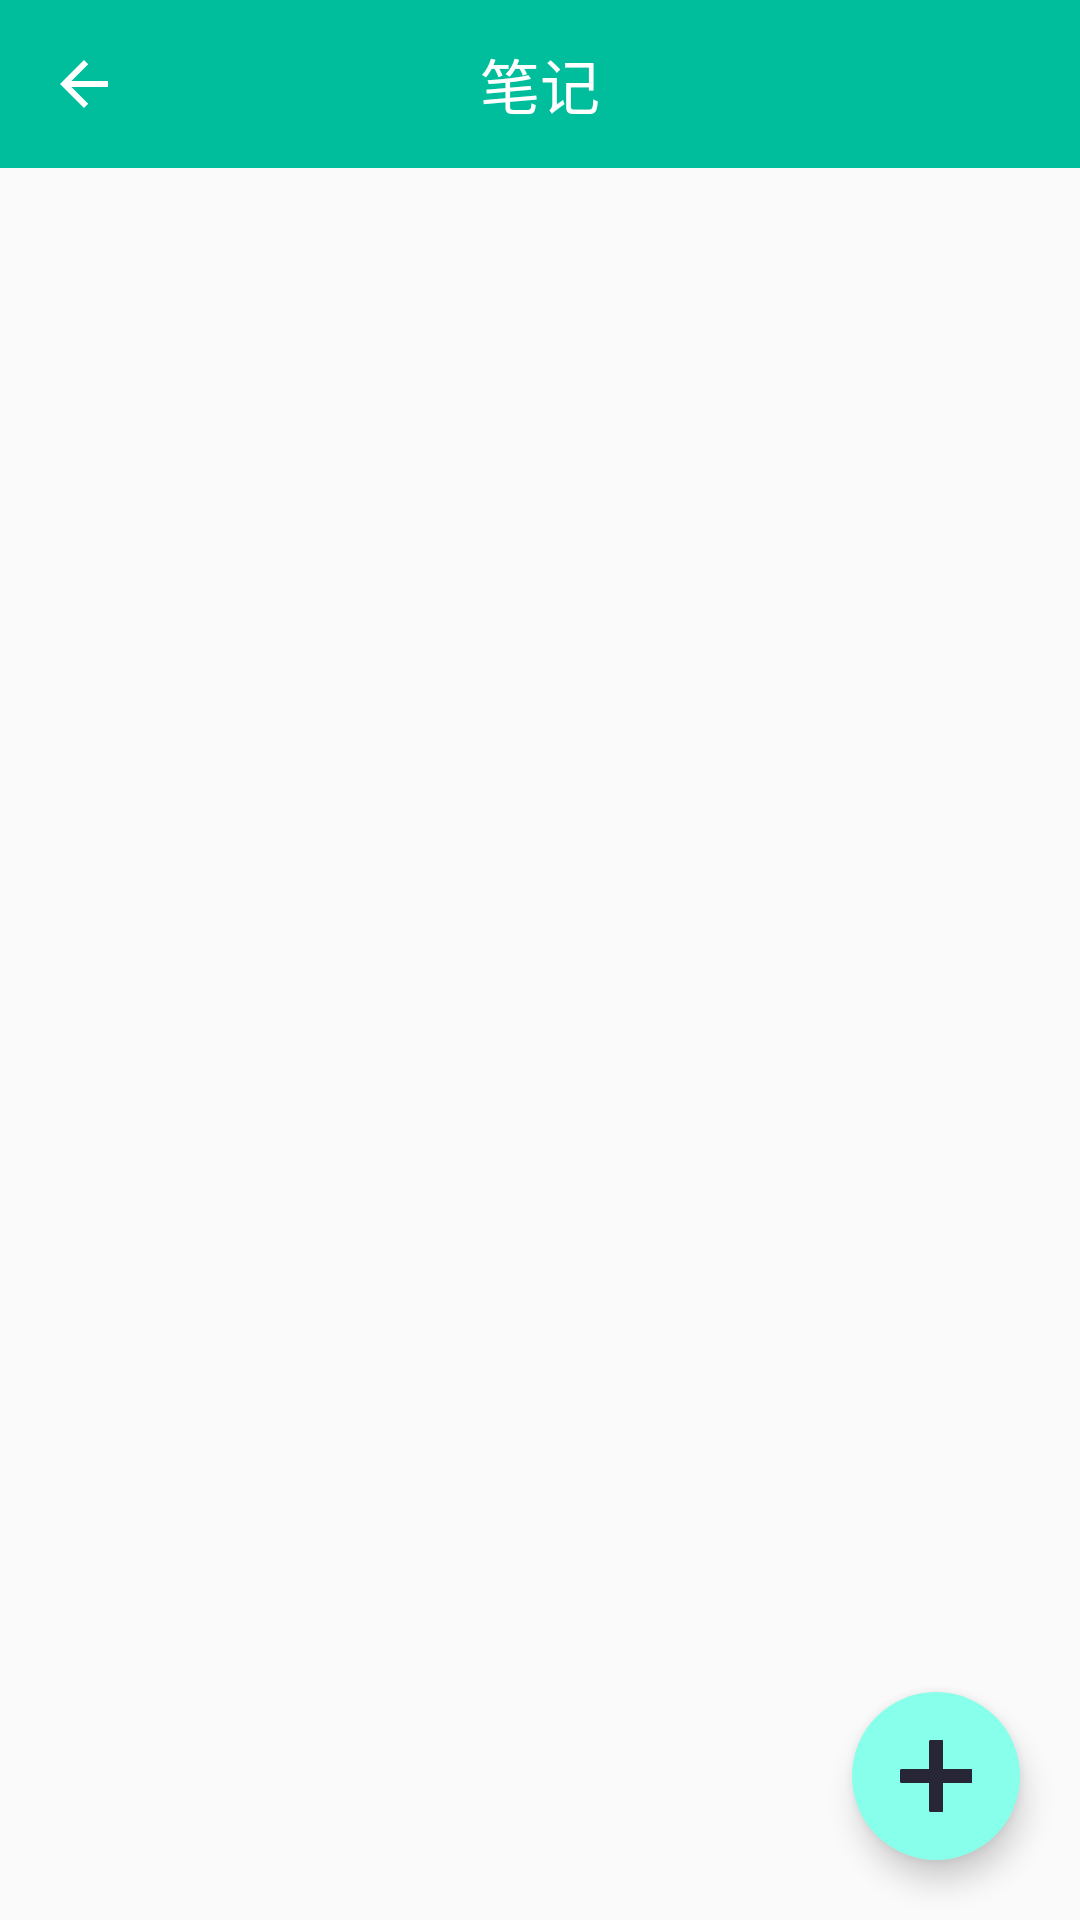

Icon click points for this 1080x1920 phone screenshot, format point (x, y):
note add: point (936, 1776)
